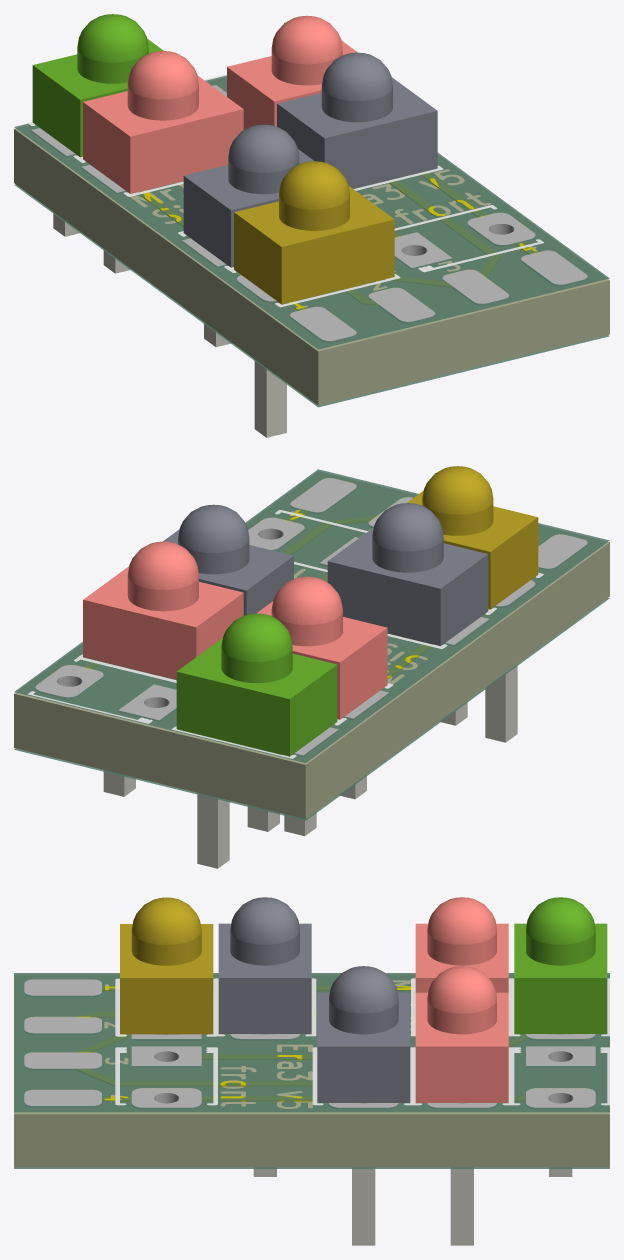
File: MrJ-DB-Era3-prod-exit-Hp0.glb
The picture shows the model from 3 angles, top to bottom: view 1: azimuth 30°, elevation 25°; view 2: azimuth 150°, elevation 25°; view 3: azimuth 270°, elevation 25°; orthographic projection. The views are drawn at different scales.
Parts seen in each view (by area): view 1: =>[0:1:1:15], =>[0:1:1:3] (×2), =>[0:1:1:9] (×2), =>[0:1:1:13], =>[0:1:1:7], =>[0:1:1:11], =>[0:1:1:5], =>[0:1:1:10], =>[0:1:1:12], =>[0:1:1:14]; view 2: =>[0:1:1:15], =>[0:1:1:3] (×2), =>[0:1:1:9] (×2), =>[0:1:1:5], =>[0:1:1:13], =>[0:1:1:7], =>[0:1:1:11], =>[0:1:1:12], =>[0:1:1:14], =>[0:1:1:10]; view 3: =>[0:1:1:15], =>[0:1:1:13], =>[0:1:1:9] (×2), =>[0:1:1:3] (×2), =>[0:1:1:11], =>[0:1:1:5], =>[0:1:1:7], =>[0:1:1:12], =>[0:1:1:10], =>[0:1:1:14].
Boxes of the visible parts, bbox=[...] form: =>[0:1:1:15]: bbox=[14, 77, 609, 405]; =>[0:1:1:3] (×2): bbox=[83, 15, 357, 273]; =>[0:1:1:9] (×2): bbox=[183, 52, 437, 347]; =>[0:1:1:13]: bbox=[14, 75, 609, 349]; =>[0:1:1:7]: bbox=[234, 161, 394, 437]; =>[0:1:1:11]: bbox=[31, 85, 587, 341]; =>[0:1:1:5]: bbox=[32, 14, 163, 236]; =>[0:1:1:10]: bbox=[140, 173, 537, 310]; =>[0:1:1:12]: bbox=[27, 74, 543, 307]; =>[0:1:1:14]: bbox=[14, 184, 609, 407]; =>[0:1:1:15]: bbox=[14, 471, 609, 818]; =>[0:1:1:3] (×2): bbox=[83, 541, 387, 831]; =>[0:1:1:9] (×2): bbox=[163, 503, 488, 725]; =>[0:1:1:5]: bbox=[176, 613, 337, 868]; =>[0:1:1:13]: bbox=[14, 469, 609, 762]; =>[0:1:1:7]: bbox=[407, 466, 538, 742]; =>[0:1:1:11]: bbox=[35, 478, 587, 756]; =>[0:1:1:12]: bbox=[28, 510, 543, 758]; =>[0:1:1:14]: bbox=[14, 598, 609, 820]; =>[0:1:1:10]: bbox=[84, 509, 538, 678]; =>[0:1:1:15]: bbox=[14, 975, 609, 1167]; =>[0:1:1:13]: bbox=[14, 973, 609, 1112]; =>[0:1:1:9] (×2): bbox=[218, 897, 410, 1245]; =>[0:1:1:3] (×2): bbox=[415, 897, 508, 1245]; =>[0:1:1:11]: bbox=[24, 979, 595, 1108]; =>[0:1:1:5]: bbox=[514, 897, 607, 1176]; =>[0:1:1:7]: bbox=[120, 897, 213, 1034]; =>[0:1:1:12]: bbox=[115, 978, 609, 1105]; =>[0:1:1:10]: bbox=[76, 986, 528, 1101]; =>[0:1:1:14]: bbox=[14, 1167, 609, 1168].
Bounding box in the file's own units: 0.00851 × 0.0071 × 0.0154.
